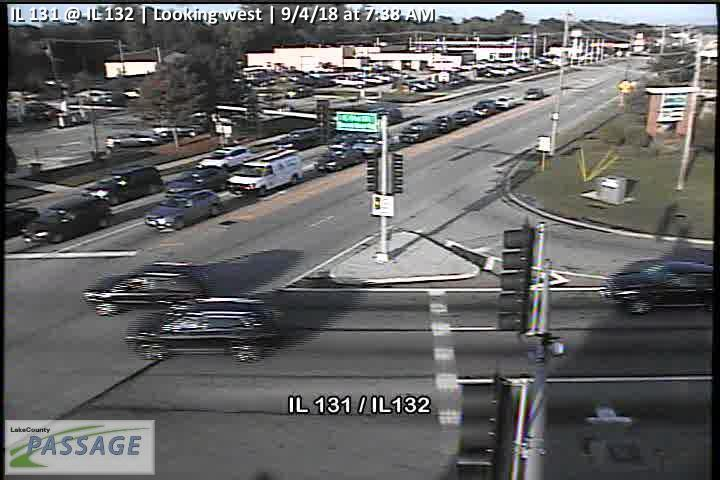SUV: (127, 296, 274, 363), (80, 261, 206, 318), (602, 260, 715, 314), (21, 192, 111, 249), (223, 147, 305, 198)
Sedan: (143, 188, 223, 234), (162, 168, 230, 195), (194, 142, 252, 171), (315, 147, 363, 173), (103, 129, 161, 150), (355, 129, 391, 154), (399, 120, 434, 144), (151, 122, 200, 139), (328, 75, 366, 89), (434, 112, 456, 135), (473, 100, 496, 116), (494, 95, 517, 110), (454, 108, 473, 125), (523, 86, 543, 101)
